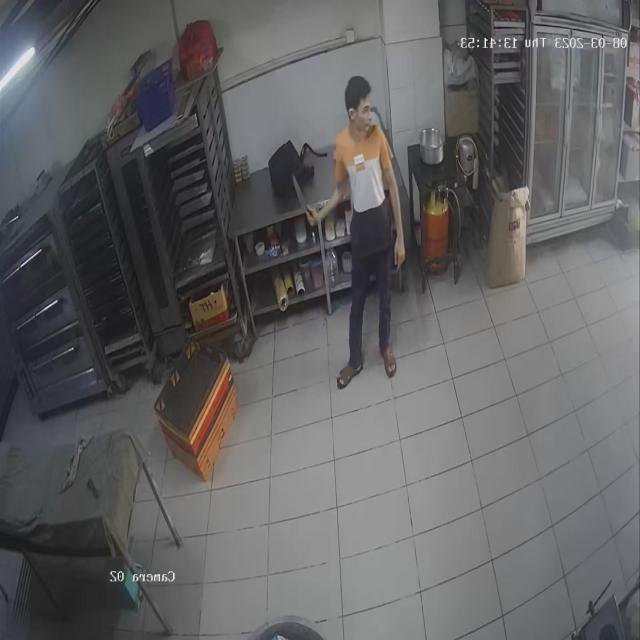Knife: (286, 169, 326, 222)
